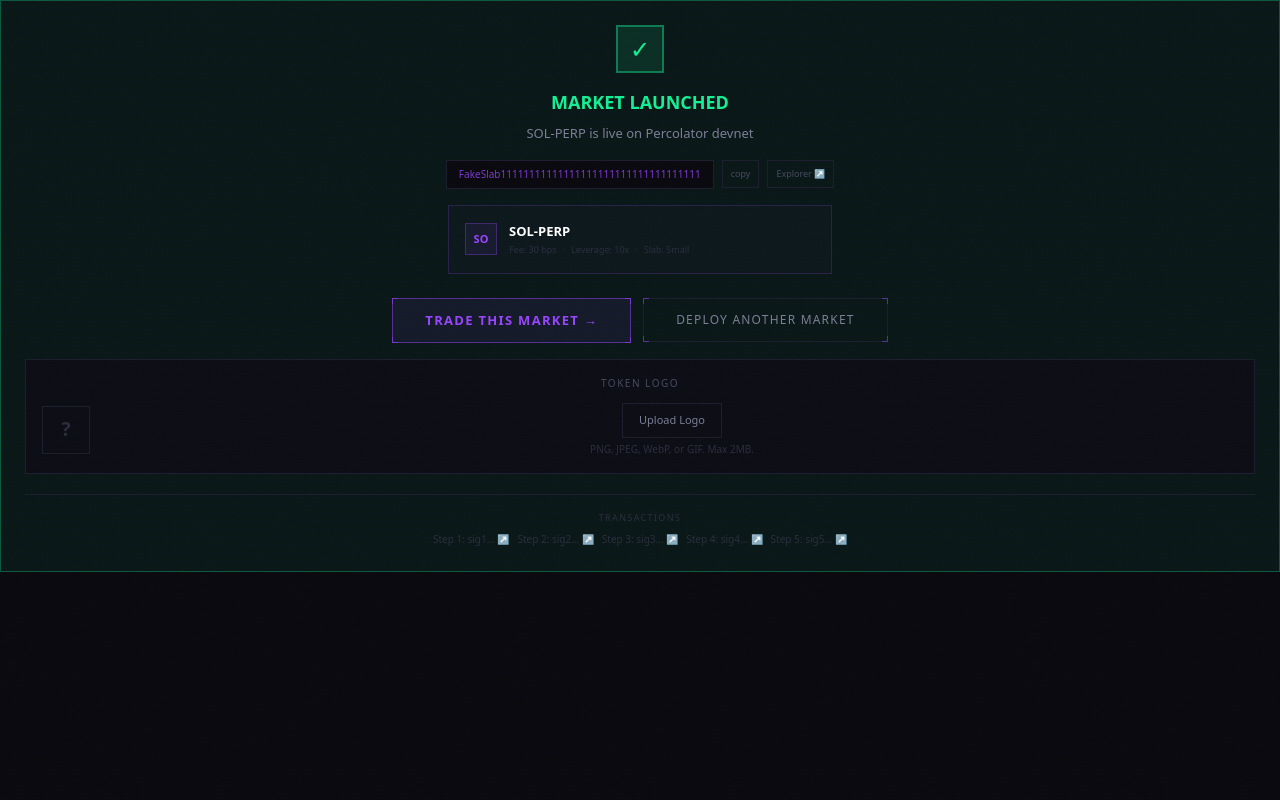
Test: LaunchSuccess › copy button changes to checkmark on click
The image size is (1280, 800).
What coordinates should you click on to do the following:
click the button titled "Copy address"
I would click on:
 (741, 174)
Its box is [722, 160, 759, 188].
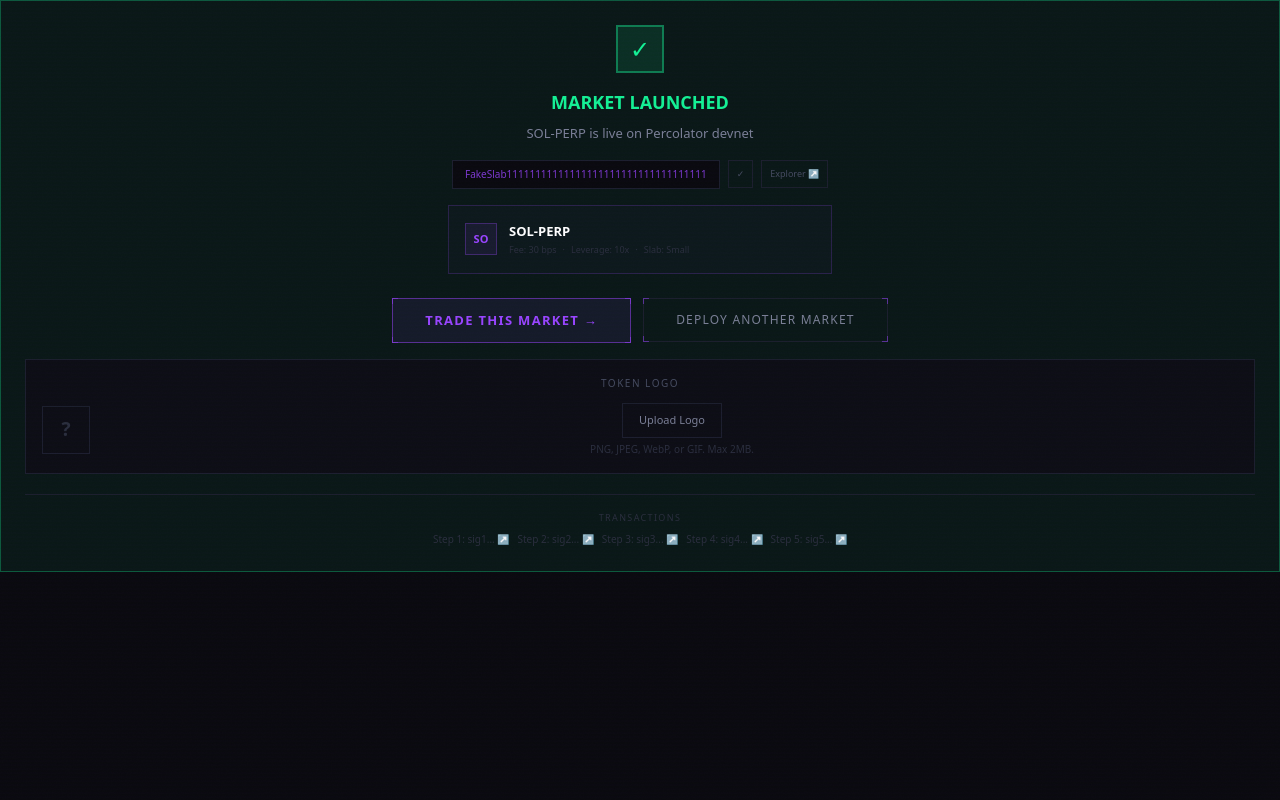
Check: the button titled "Copy address" reads "✓", box [728, 160, 753, 188]
